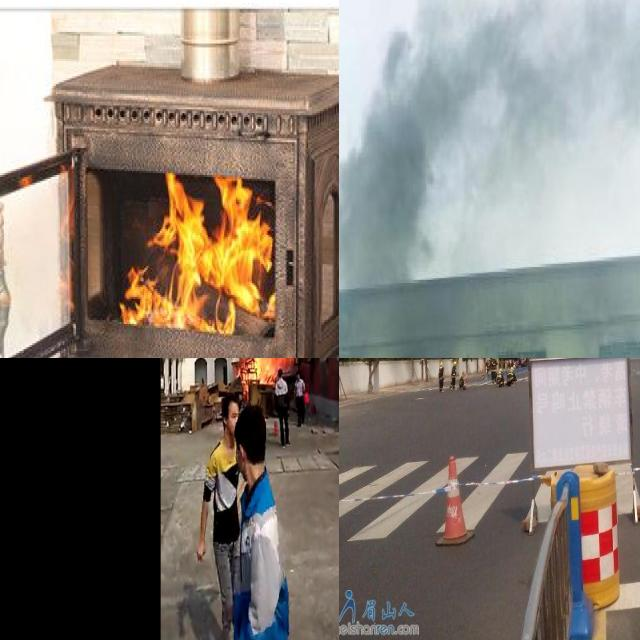fire: (120, 165, 276, 330), (241, 358, 297, 388)
smoke: (339, 0, 640, 280)
